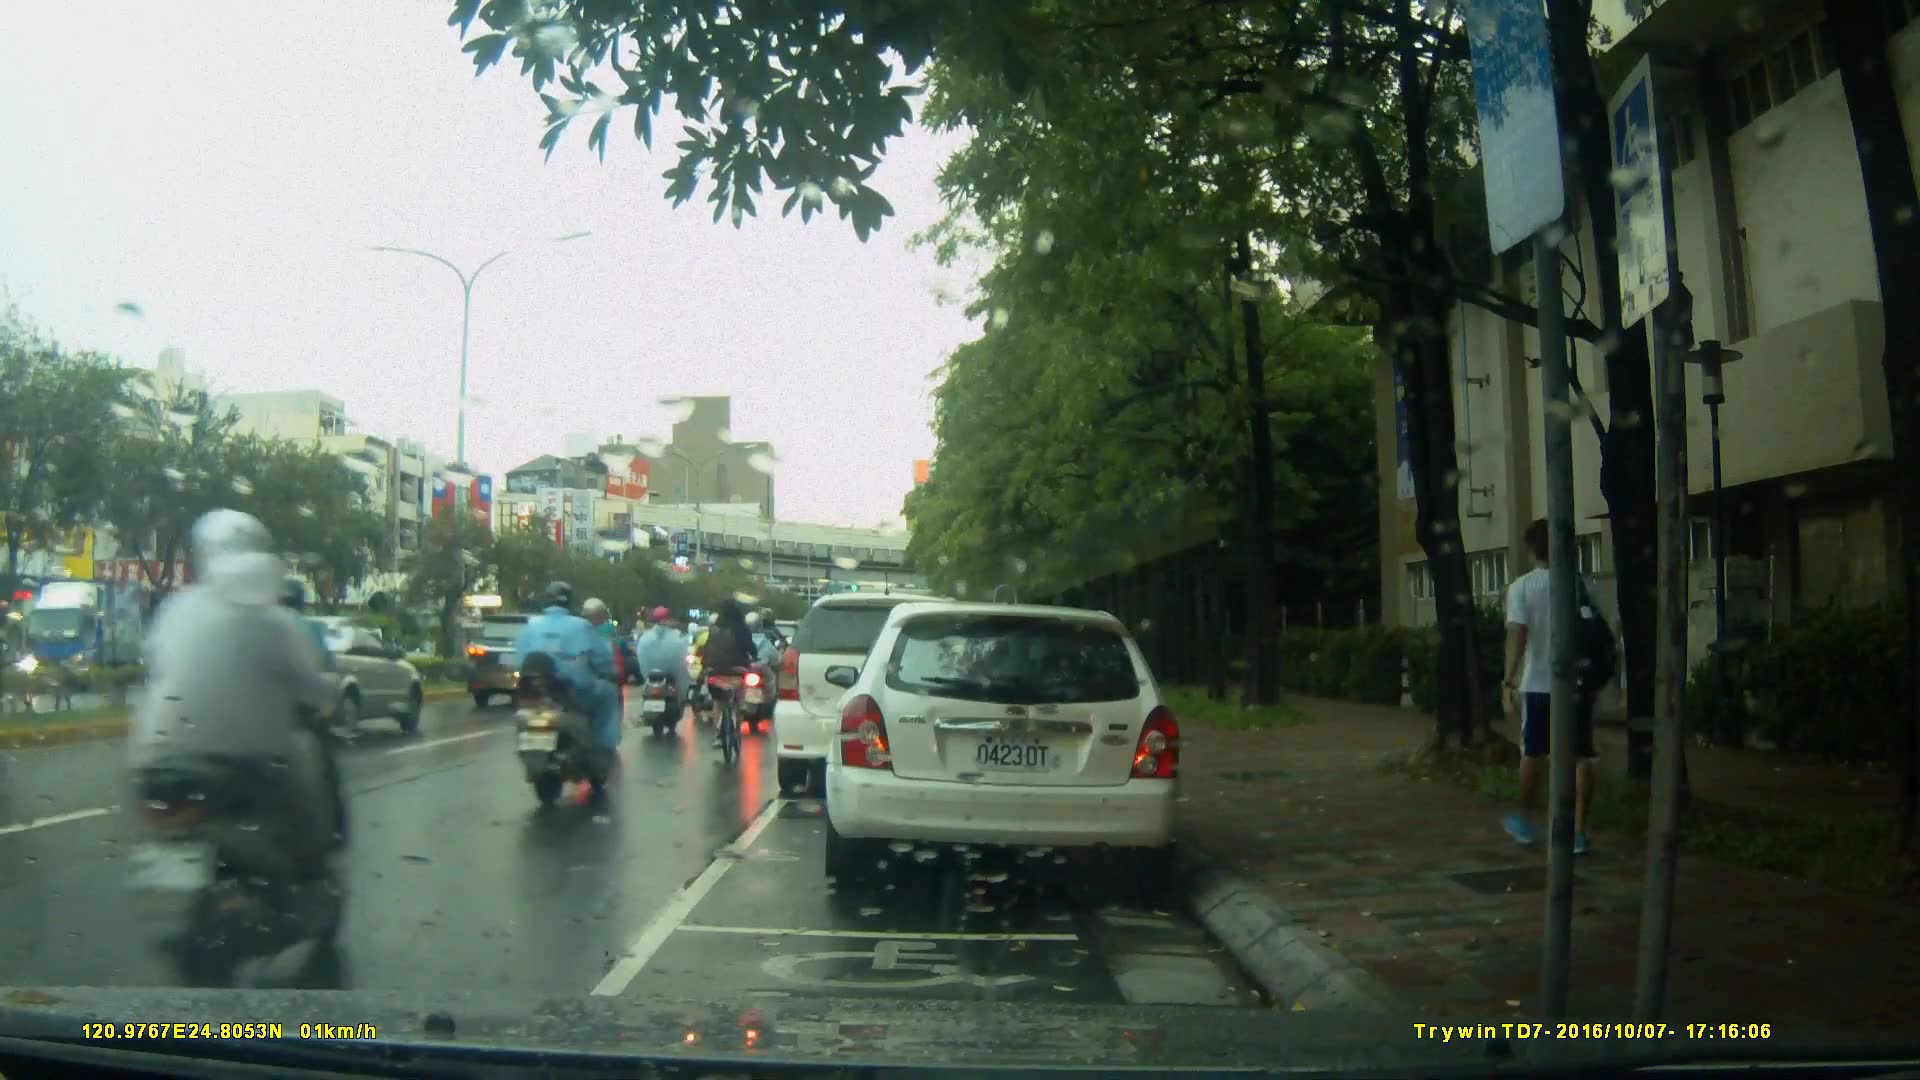pedestrian: (1502, 502, 1621, 894)
rider: (102, 507, 363, 991), (510, 580, 626, 811), (225, 574, 324, 814), (696, 598, 755, 780), (636, 602, 694, 734), (732, 615, 782, 729), (689, 609, 731, 710)
vehicle: (822, 604, 1188, 882), (774, 595, 995, 802), (194, 611, 429, 743), (20, 576, 161, 697), (461, 611, 604, 709), (144, 630, 241, 686)
